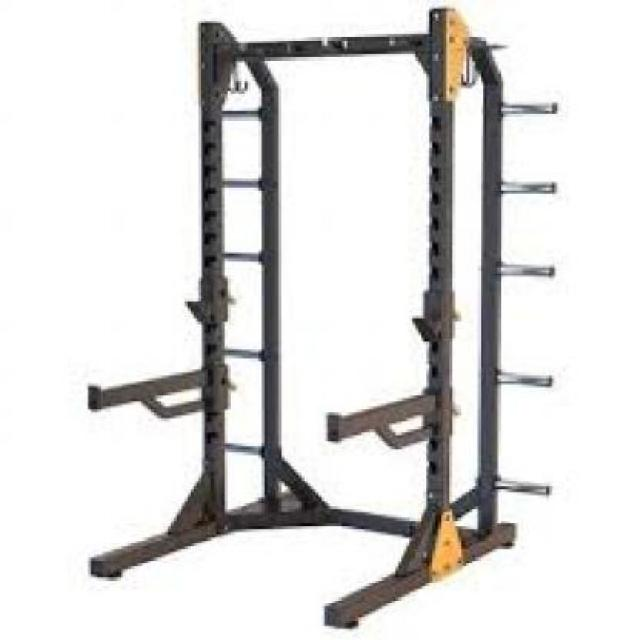smith machine: (89, 8, 554, 629)
